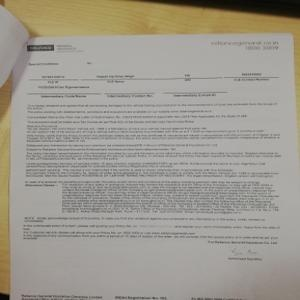image: (25, 41, 56, 52)
text: (25, 103, 279, 246), (209, 37, 281, 51)
